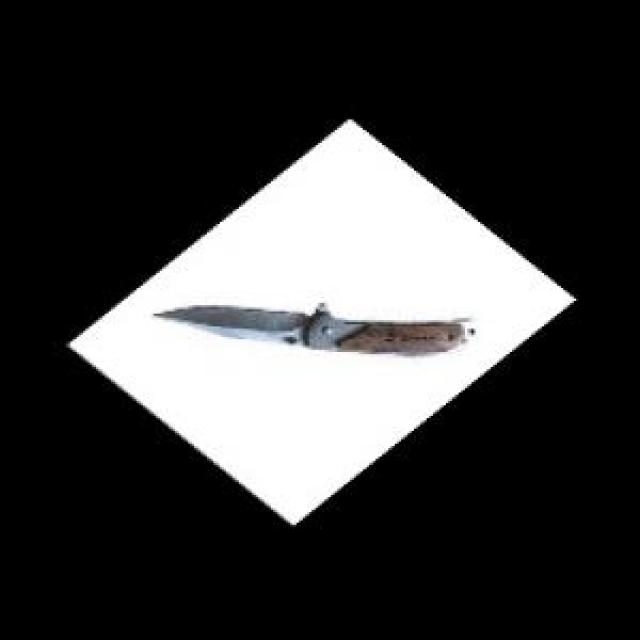knife: (149, 301, 495, 353)
